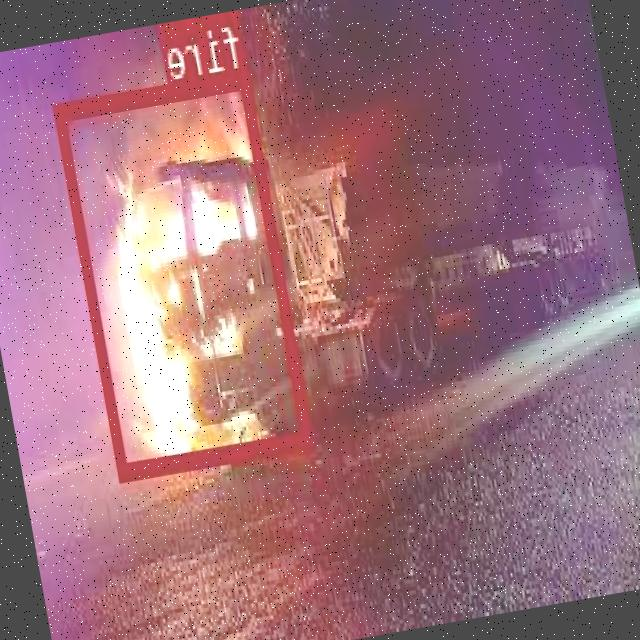fire: (54, 70, 316, 478)
